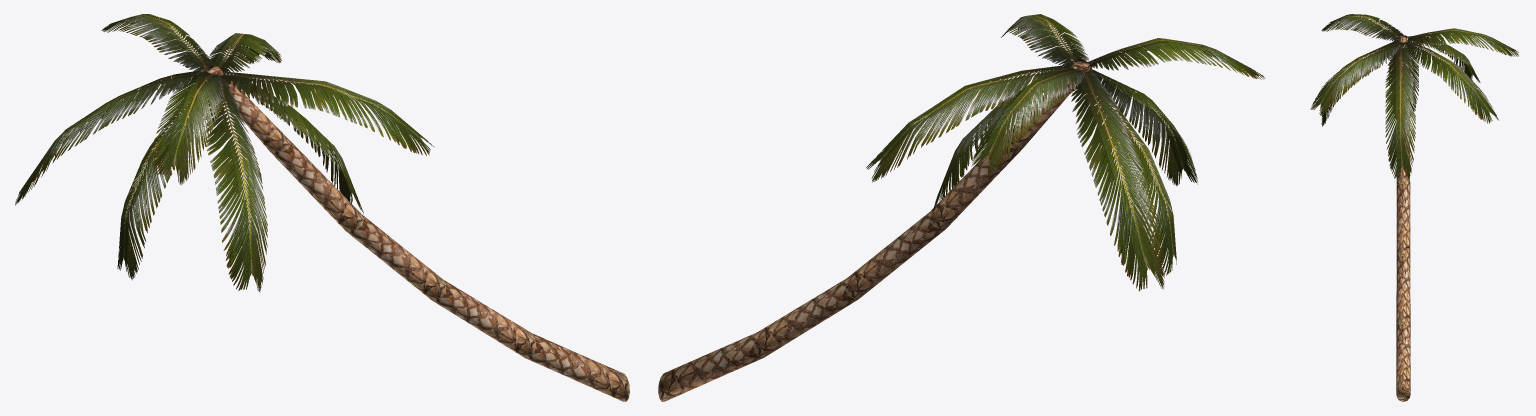
The model's file is PalmTree1.fbx.
3 views of the same model, side by side, from view 1: azimuth 30°, elevation 25°; view 2: azimuth 150°, elevation 25°; view 3: azimuth 270°, elevation 25° (orthographic). The views are drawn at different scales.
Visible parts, largest first — view 1: PalmLeaves1, PalmTrunk1; view 2: PalmLeaves1, PalmTrunk1; view 3: PalmLeaves1, PalmTrunk1.
Boxes of the visible parts, <box> form: PalmLeaves1: <box>15,14,434,292</box>; PalmTrunk1: <box>201,66,629,401</box>; PalmLeaves1: <box>866,14,1265,291</box>; PalmTrunk1: <box>658,61,1092,401</box>; PalmLeaves1: <box>1310,14,1518,179</box>; PalmTrunk1: <box>1396,35,1410,401</box>.
Size of the model in its own units: 7.03 by 5.38 by 4.14.
Materials: 2 (2 with a texture image).
